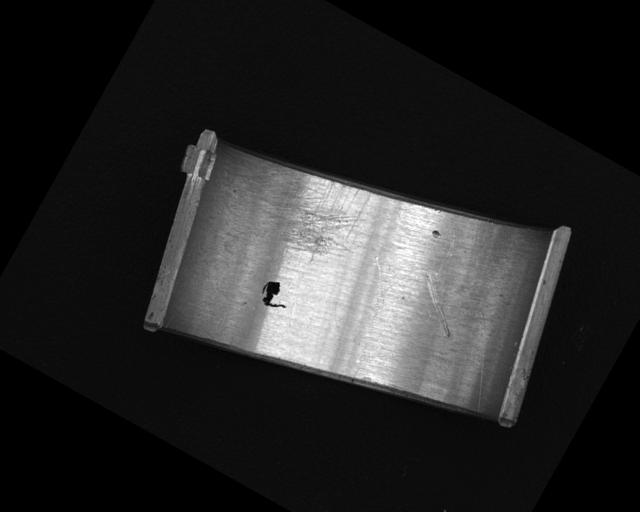blot: (255, 276, 295, 315)
bruise: (430, 227, 444, 241)
nick: (317, 255, 414, 382), (437, 313, 523, 415), (403, 271, 473, 339), (426, 227, 464, 282)
scratch: (231, 138, 383, 278)
